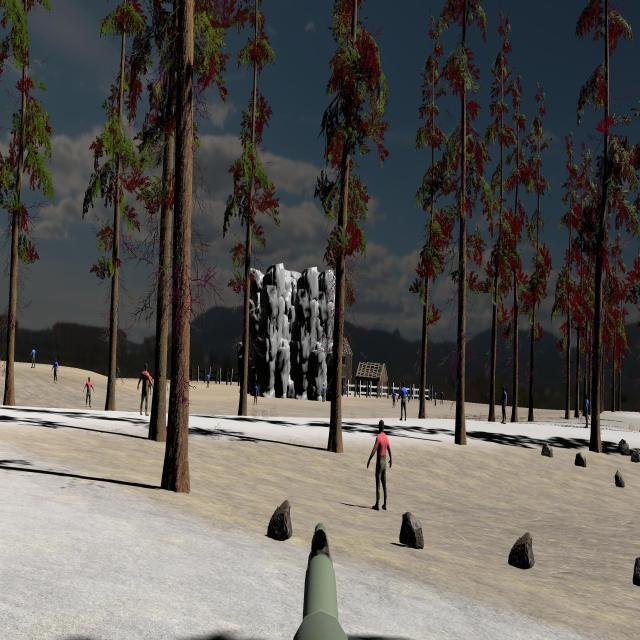Human: (367, 420, 392, 510), (138, 362, 153, 415)
